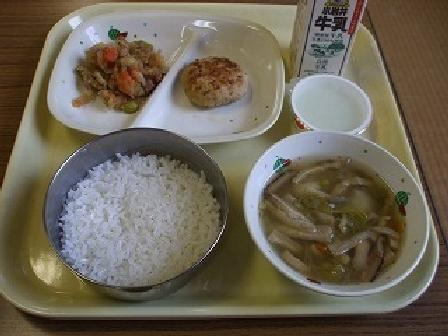Cup desserts: (280, 68, 385, 140)
Milk: (291, 4, 369, 79)
Rice: (44, 134, 224, 301)
cutlet: (179, 41, 252, 117)
vegetable based cooked food: (64, 32, 169, 111)
vegetable soup: (255, 139, 423, 286)
